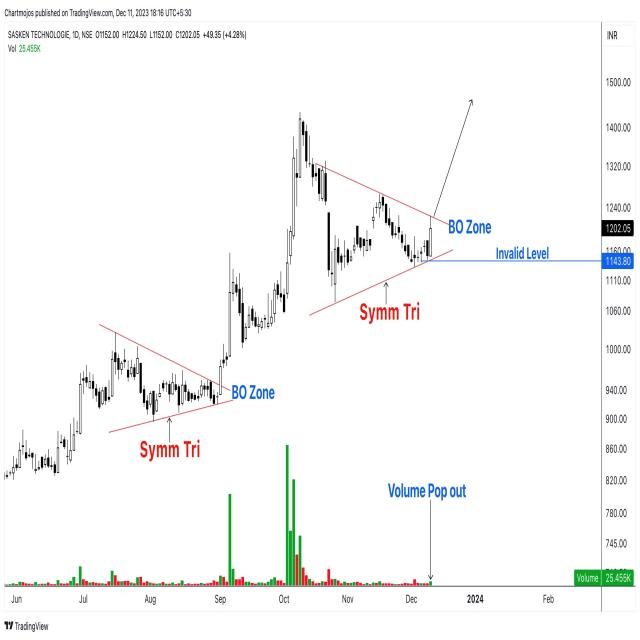Triangle: (306, 159, 470, 312), (63, 307, 242, 443)
